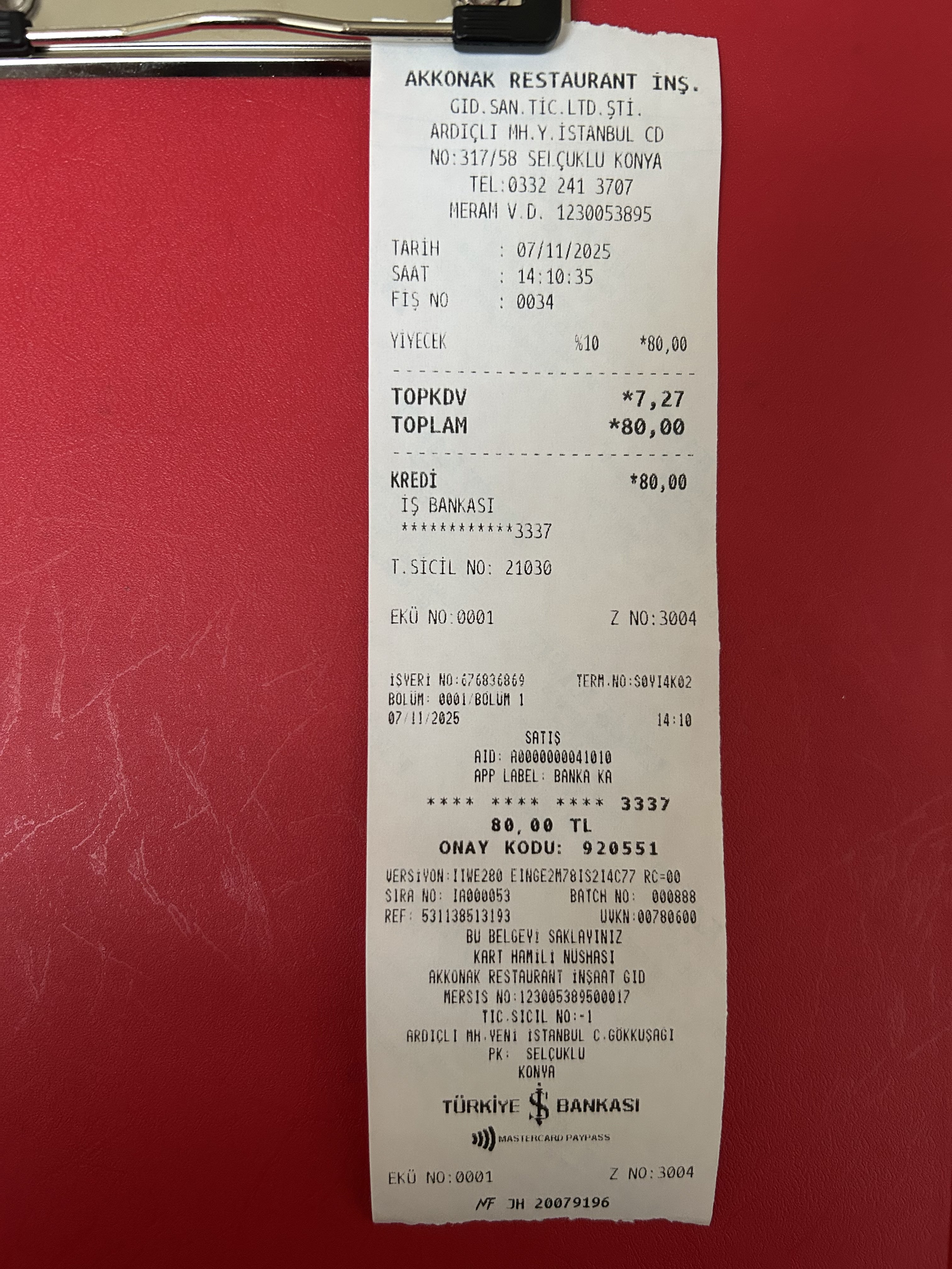date: (619, 412, 691, 447)
price: (510, 236, 614, 264)
workplace: (396, 62, 706, 172)
